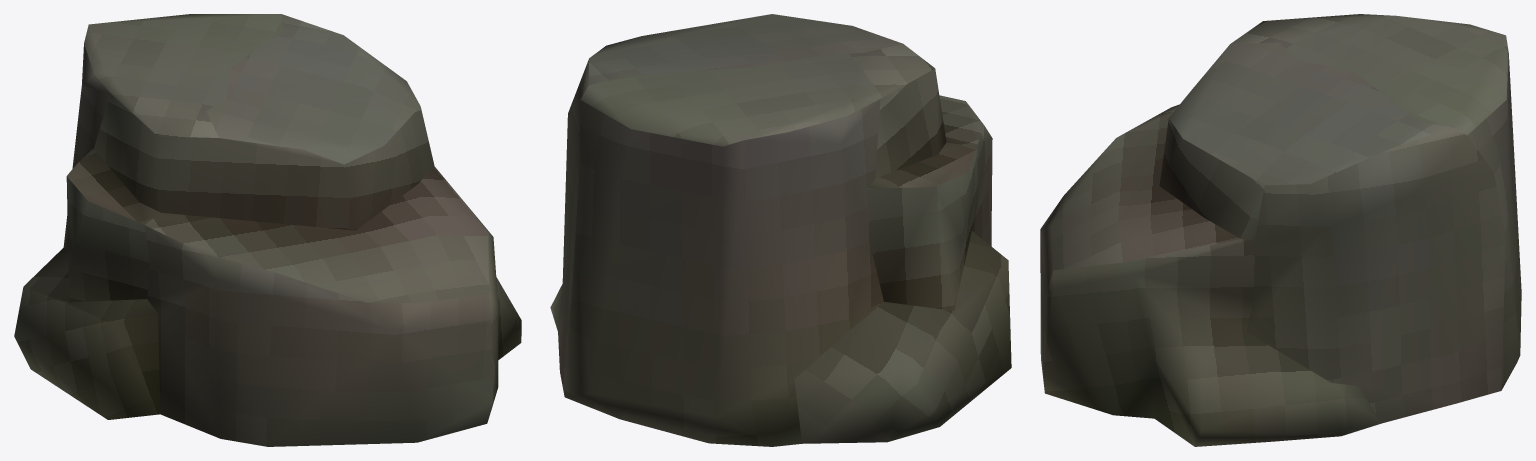
File: SM_Rocks_Formation_03.FBX
3 views of the same model, side by side, from view 1: azimuth 30°, elevation 25°; view 2: azimuth 150°, elevation 25°; view 3: azimuth 270°, elevation 25° (orthographic). The views are drawn at different scales.
Parts seen in each view (by area): view 1: SM_Rocks_Formation_03_LOD0; view 2: SM_Rocks_Formation_03_LOD0; view 3: SM_Rocks_Formation_03_LOD0.
Part boxes in pixels (box(x1,y1,x2,y2)): SM_Rocks_Formation_03_LOD0: box(14, 14, 521, 446); SM_Rocks_Formation_03_LOD0: box(550, 14, 1011, 446); SM_Rocks_Formation_03_LOD0: box(1040, 14, 1521, 446).
Size of the model in its own units: 96.82 by 62.96 by 99.09.
